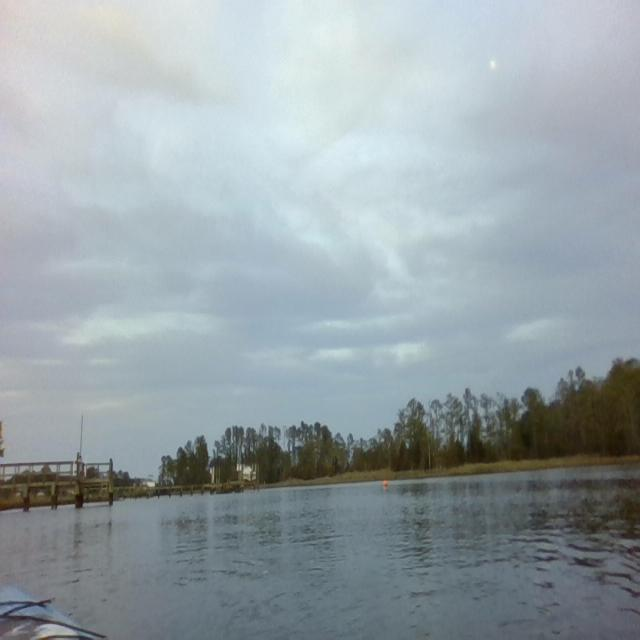Buoy: (383, 476, 390, 490)
